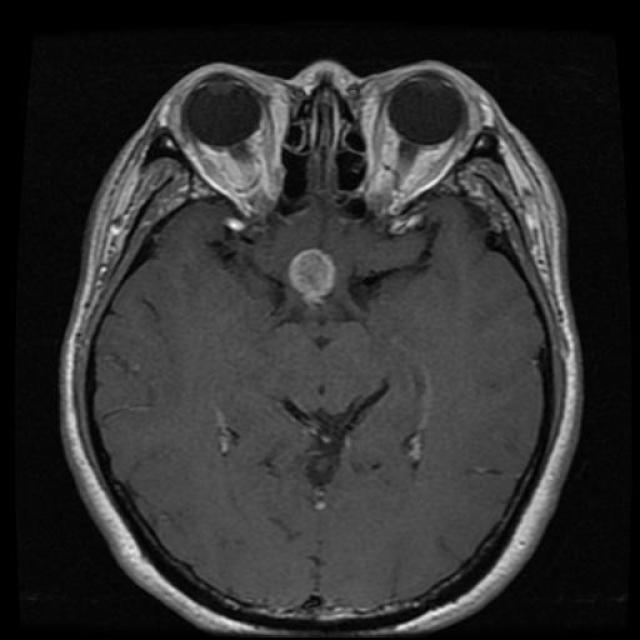pituitary: (274, 232, 348, 327)
